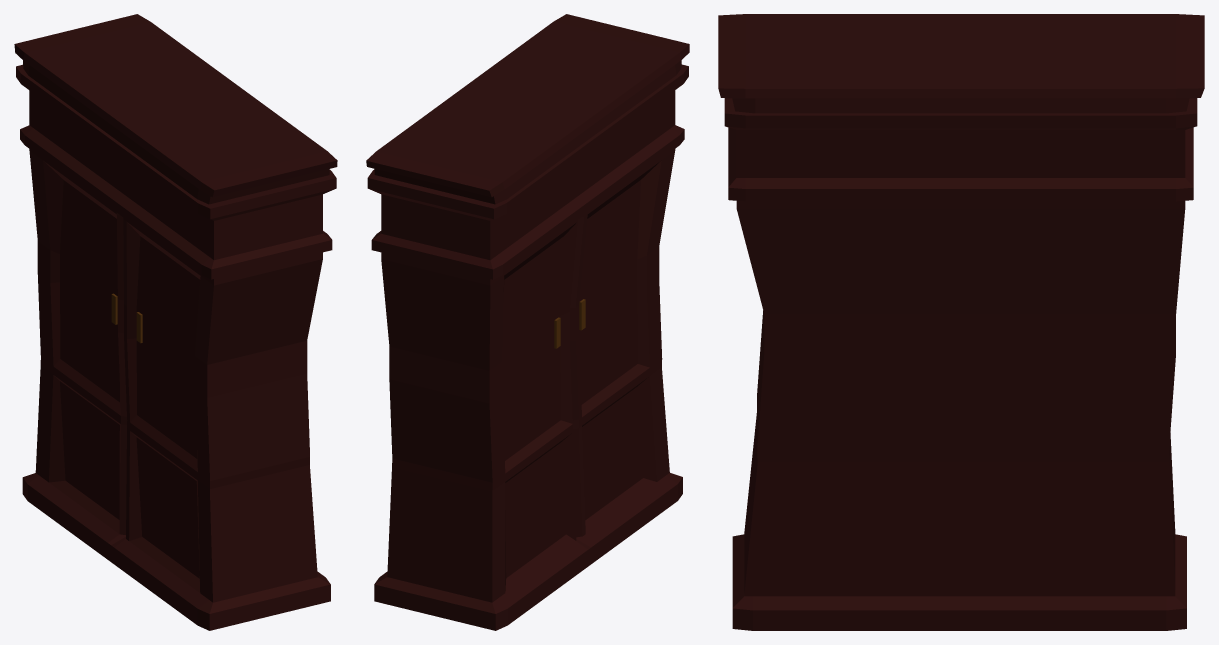
The model's file is Kleiderschrank2.fbx.
3 renders of one model, left to right at view 1: azimuth 30°, elevation 25°; view 2: azimuth 150°, elevation 25°; view 3: azimuth 270°, elevation 25°, orthographic. The views are drawn at different scales.
Visible parts, largest first — view 1: Schrank3.002; view 2: Schrank3.002; view 3: Schrank3.002.
Part boxes in pixels (left/top/right/bottom): Schrank3.002: left=14, top=14, right=337, bottom=630; Schrank3.002: left=366, top=14, right=689, bottom=630; Schrank3.002: left=718, top=14, right=1204, bottom=630.
Size of the model in its own units: 170 by 544 by 443.
